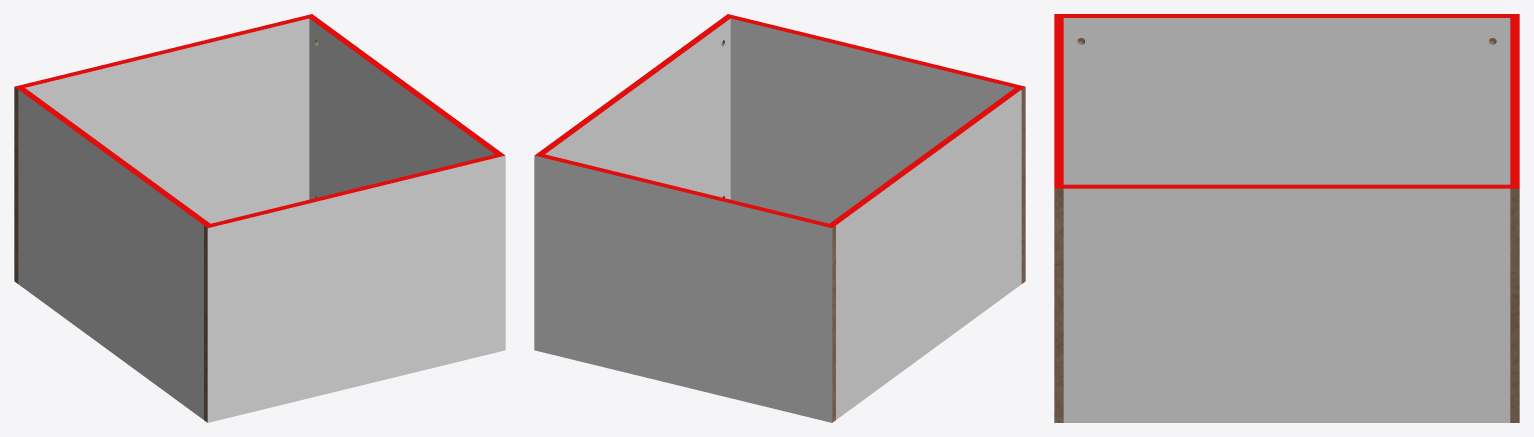
File: testglb1.glb
3 renders of one model, left to right at view 1: azimuth 30°, elevation 25°; view 2: azimuth 150°, elevation 25°; view 3: azimuth 270°, elevation 25°, orthographic. The views are drawn at different scales.
Visible parts, largest first — view 1: New_UST_ALT_BINI_1_ÜST PANEL-1, New_UST_ALT_BINI_1_SOL PANEL-1, New_UST_ALT_BINI_1_ALT PANEL-1, New_UST_ALT_BINI_1_SAĞ PANEL-1; view 2: New_UST_ALT_BINI_1_ALT PANEL-1, New_UST_ALT_BINI_1_SOL PANEL-1, New_UST_ALT_BINI_1_ÜST PANEL-1, New_UST_ALT_BINI_1_SAĞ PANEL-1; view 3: New_UST_ALT_BINI_1_SAĞ PANEL-1, New_UST_ALT_BINI_1_SOL PANEL-1, New_UST_ALT_BINI_1_ÜST PANEL-1, New_UST_ALT_BINI_1_ALT PANEL-1.
Part boxes in pixels (x1,y1,x2,y2): New_UST_ALT_BINI_1_ÜST PANEL-1: (204, 152, 505, 422); New_UST_ALT_BINI_1_SOL PANEL-1: (18, 88, 210, 419); New_UST_ALT_BINI_1_ALT PANEL-1: (14, 14, 315, 283); New_UST_ALT_BINI_1_SAĞ PANEL-1: (309, 17, 501, 199); New_UST_ALT_BINI_1_ALT PANEL-1: (534, 152, 835, 422); New_UST_ALT_BINI_1_SOL PANEL-1: (829, 88, 1021, 419); New_UST_ALT_BINI_1_ÜST PANEL-1: (724, 14, 1025, 283); New_UST_ALT_BINI_1_SAĞ PANEL-1: (538, 17, 730, 199); New_UST_ALT_BINI_1_SAĞ PANEL-1: (1063, 184, 1510, 422); New_UST_ALT_BINI_1_SOL PANEL-1: (1063, 14, 1510, 184); New_UST_ALT_BINI_1_ÜST PANEL-1: (1054, 14, 1063, 422); New_UST_ALT_BINI_1_ALT PANEL-1: (1510, 14, 1519, 422).
Size of the model in its own units: 0.8 by 0.5 by 0.9.
12 materials, 4 textured.
